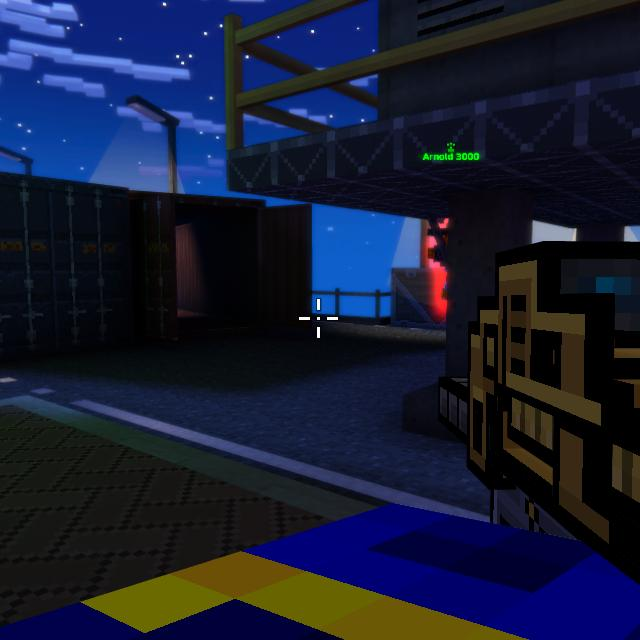Enemy: (426, 233, 448, 304)
